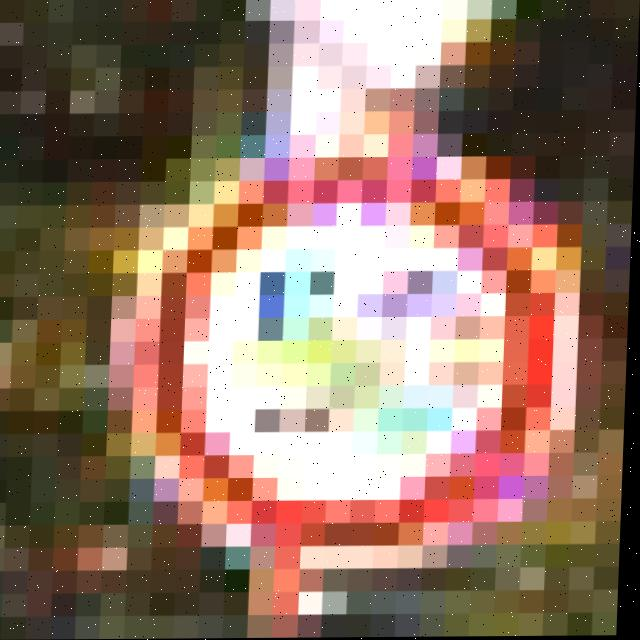speed_limit_50: (125, 154, 634, 593)
